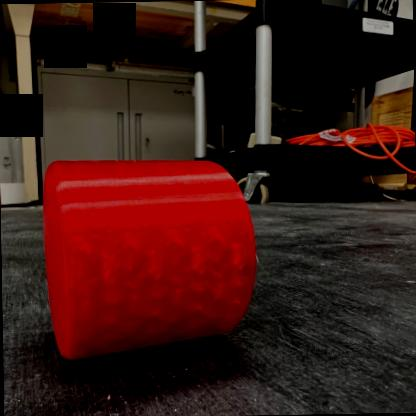red cylinder: (40, 154, 259, 364)
